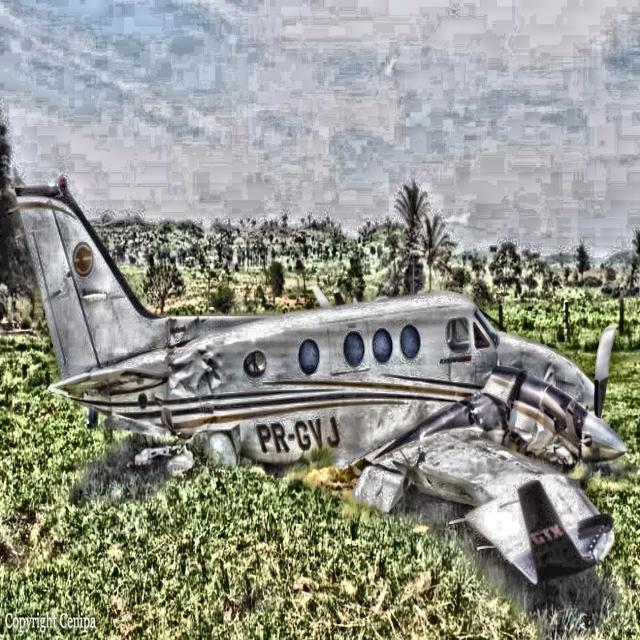dent: (171, 342, 225, 414)
